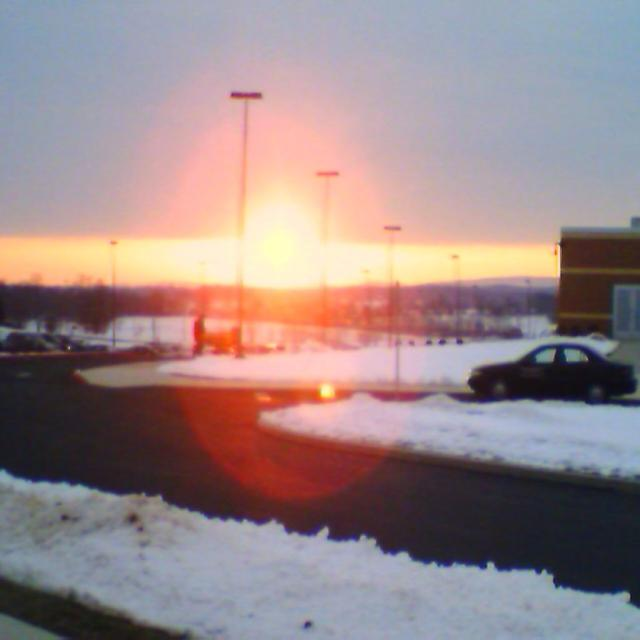car: (464, 341, 639, 402), (8, 322, 70, 354)
